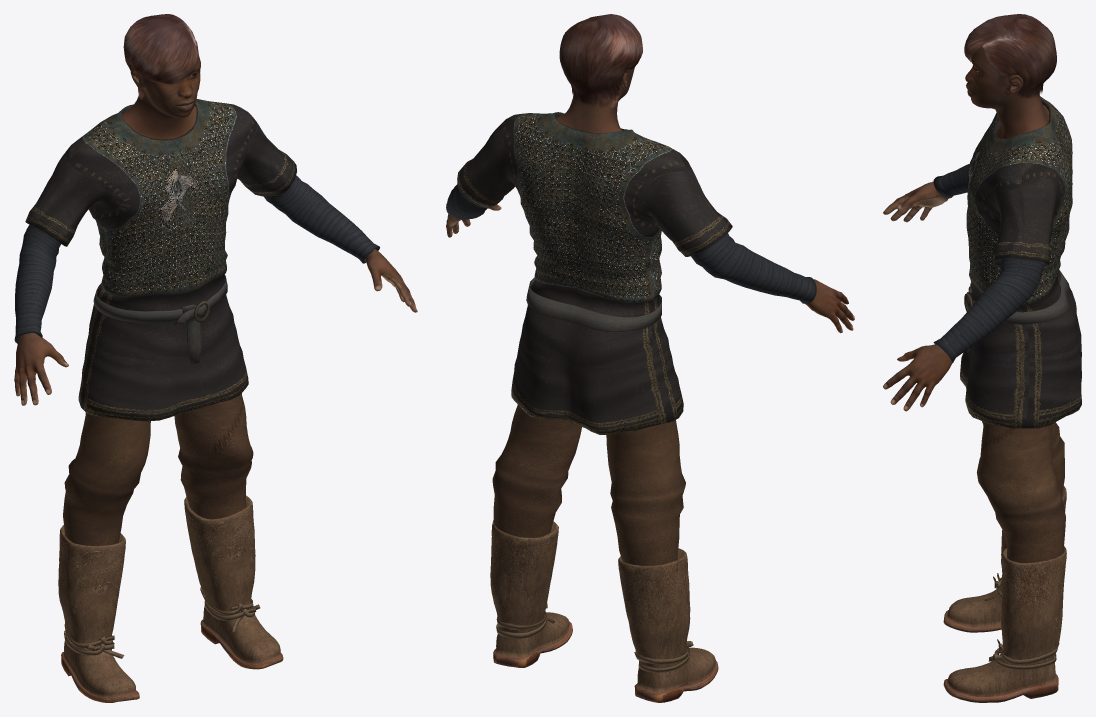
The model's file is control-tavin.glb.
3 renders of one model, left to right at view 1: azimuth 30°, elevation 25°; view 2: azimuth 150°, elevation 25°; view 3: azimuth 270°, elevation 25°, orthographic. The views are drawn at different scales.
Parts seen in each view (by area): view 1: control-tavin runtime mesh; view 2: control-tavin runtime mesh; view 3: control-tavin runtime mesh.
Boxes of the visible parts, <box> form: control-tavin runtime mesh: <box>14,14,417,702</box>; control-tavin runtime mesh: <box>446,14,854,702</box>; control-tavin runtime mesh: <box>883,14,1081,702</box>.
Bounding box in the file's own units: 1.18 × 1.85 × 0.5224.
Materials: 6 (6 with a texture image).
